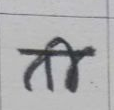i_matra: (54, 37, 78, 90)
